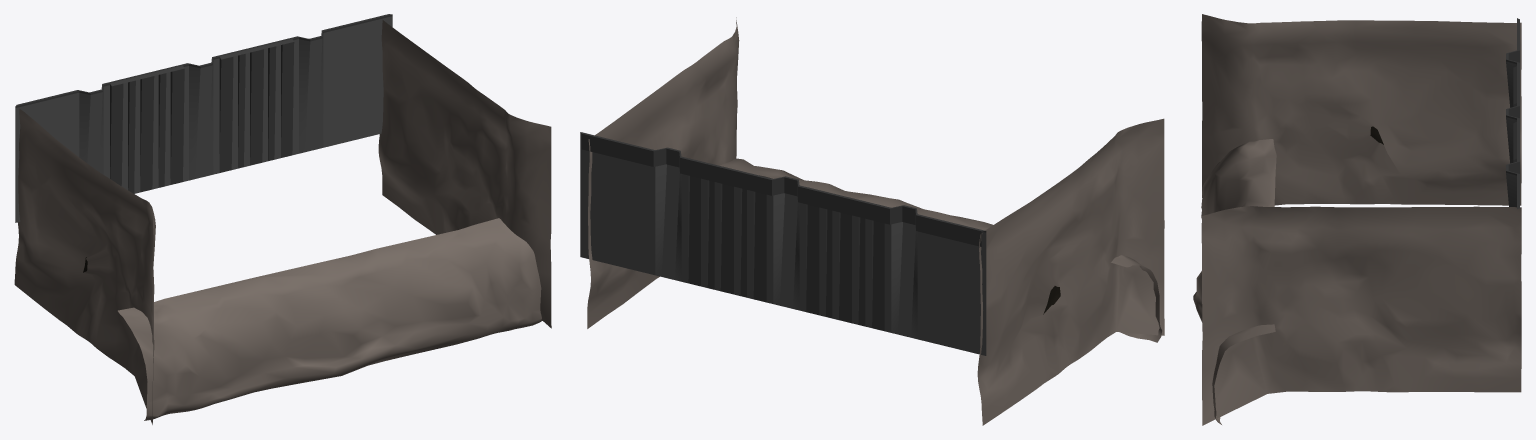
The model's file is Lower_Plaza_Walls.fbx.
The picture shows the model from 3 angles, left to right: view 1: azimuth 30°, elevation 25°; view 2: azimuth 150°, elevation 25°; view 3: azimuth 270°, elevation 25°; orthographic projection. The views are drawn at different scales.
Visible parts, largest first — view 1: Lower_Plaza_Walls; view 2: Lower_Plaza_Walls; view 3: Lower_Plaza_Walls.
Part boxes in pixels (x1,y1,x2,y2): Lower_Plaza_Walls: [14, 14, 551, 424]; Lower_Plaza_Walls: [580, 17, 1164, 425]; Lower_Plaza_Walls: [1193, 14, 1521, 425].
Bounding box in the file's own units: 394 × 193 × 269.
